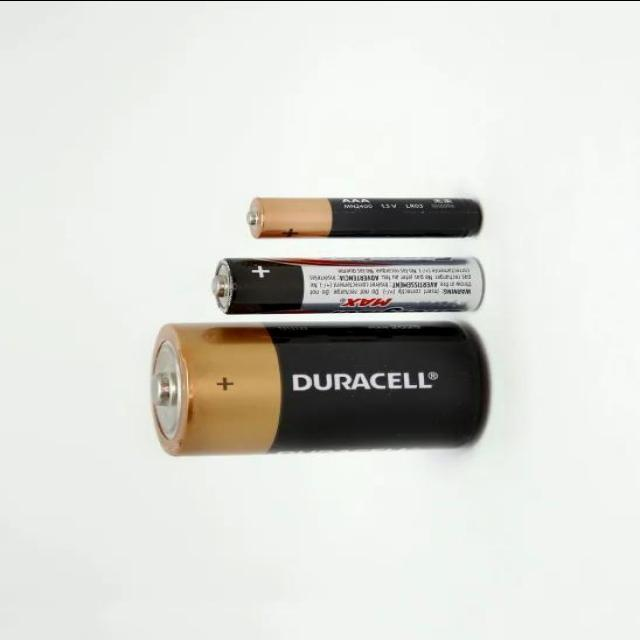AA: (208, 251, 488, 314)
AAA: (243, 192, 488, 238)
